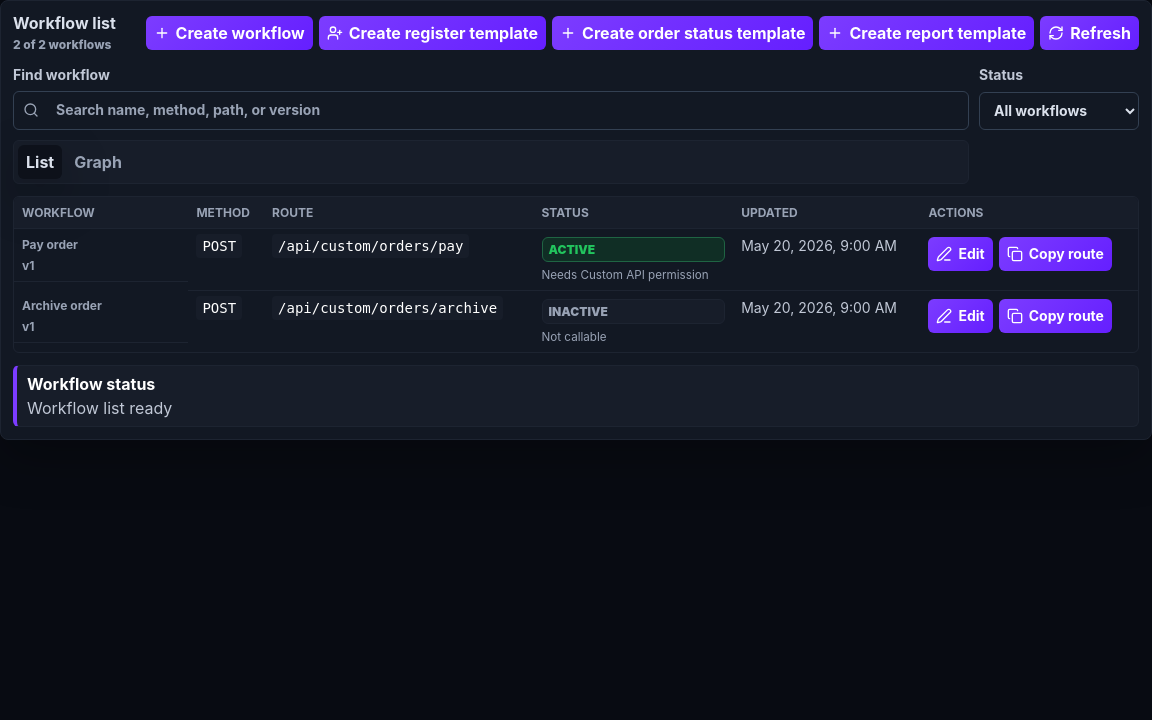
WorkflowManager › creates the register user template without storing plain passwords
This screenshot has width=1152, height=720.
Click the button "Create register template" at (432, 33), box [319,16,546,50]
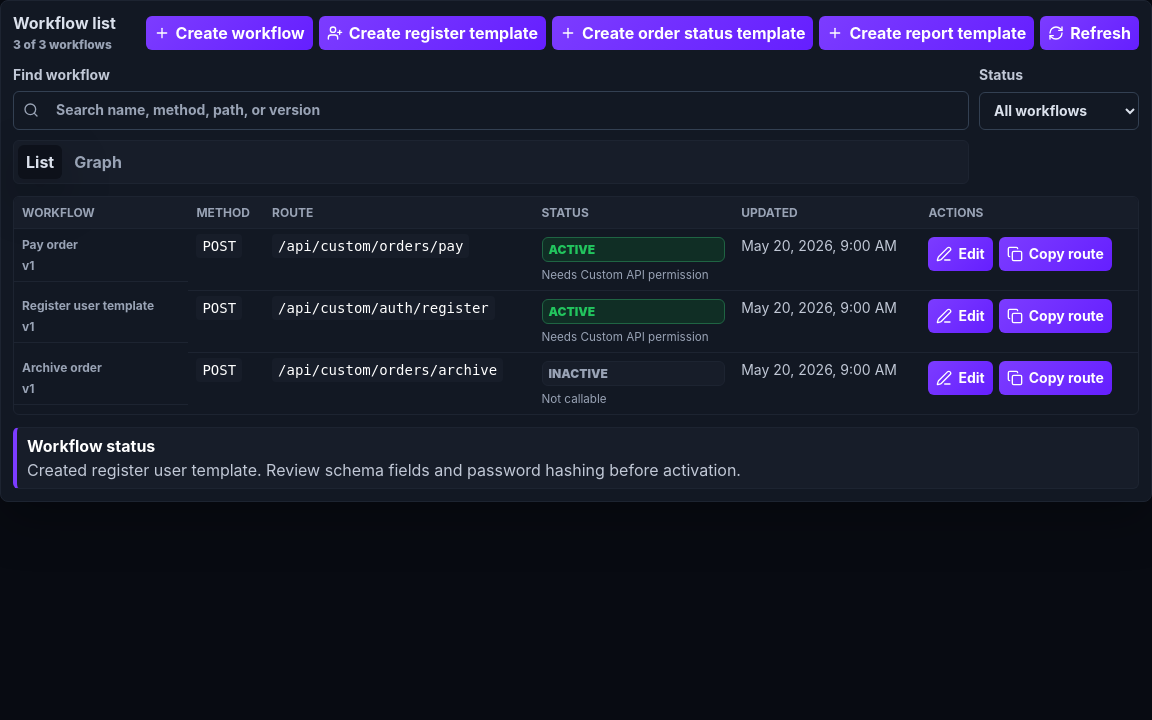
Expected: the text "Created register user template" is shown, [27,460,741,480]
